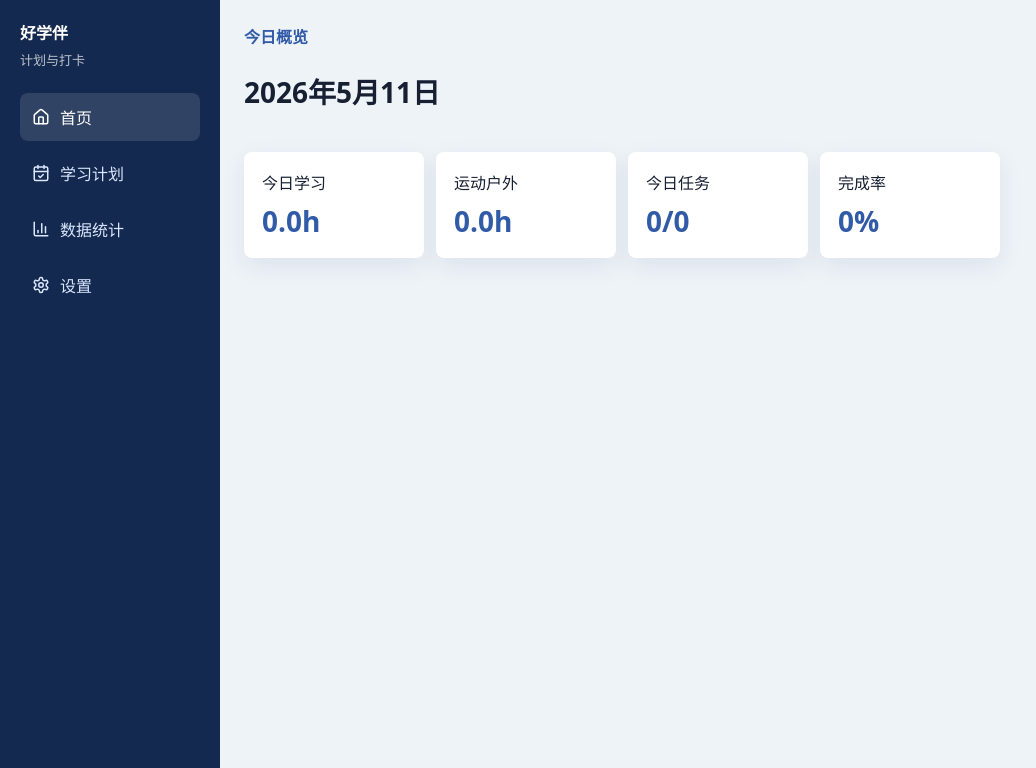
Test case: App › opens the planner section
Click the button "学习计划".
click(110, 173)  # box [20,149,200,197]
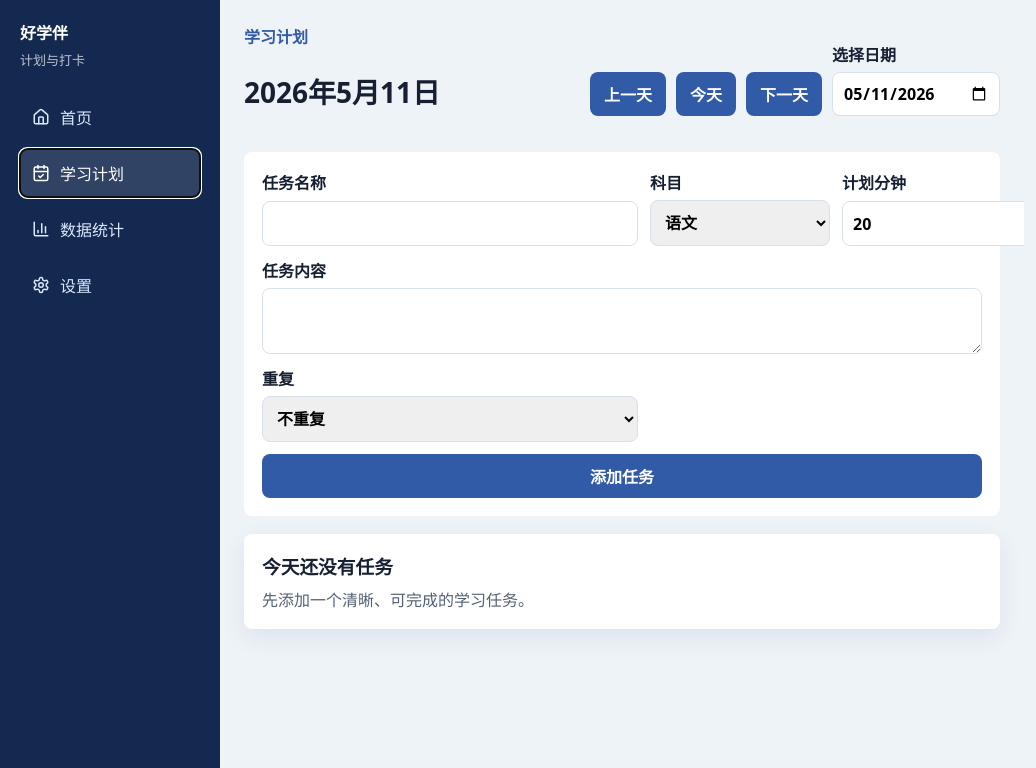
Result: the button "添加任务" is shown at [262,454,982,498]
